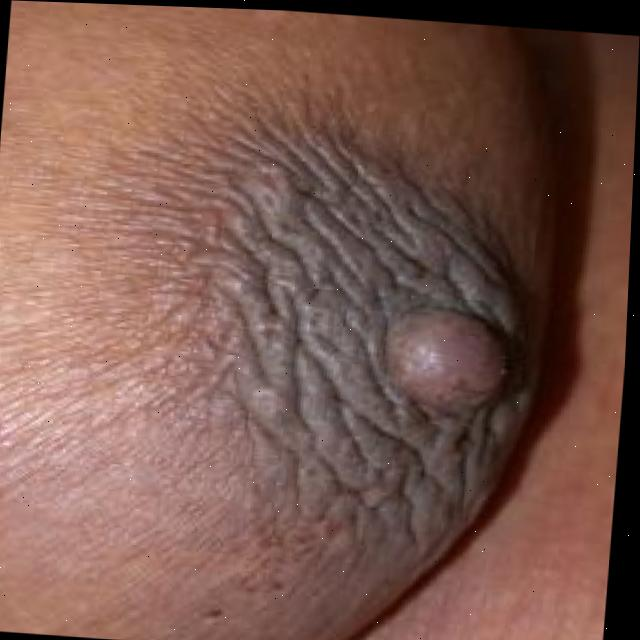Eczema: (182, 145, 513, 501)
